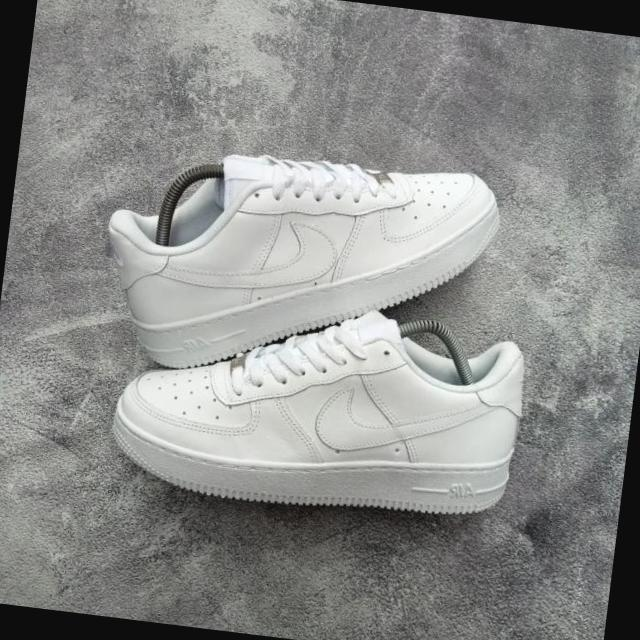nike_fake_airforce: (84, 129, 508, 408), (105, 282, 532, 540)
